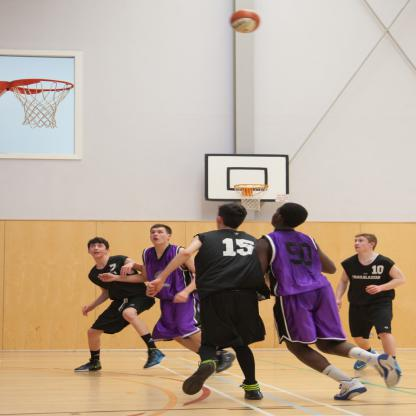Ball: (228, 7, 260, 33)
